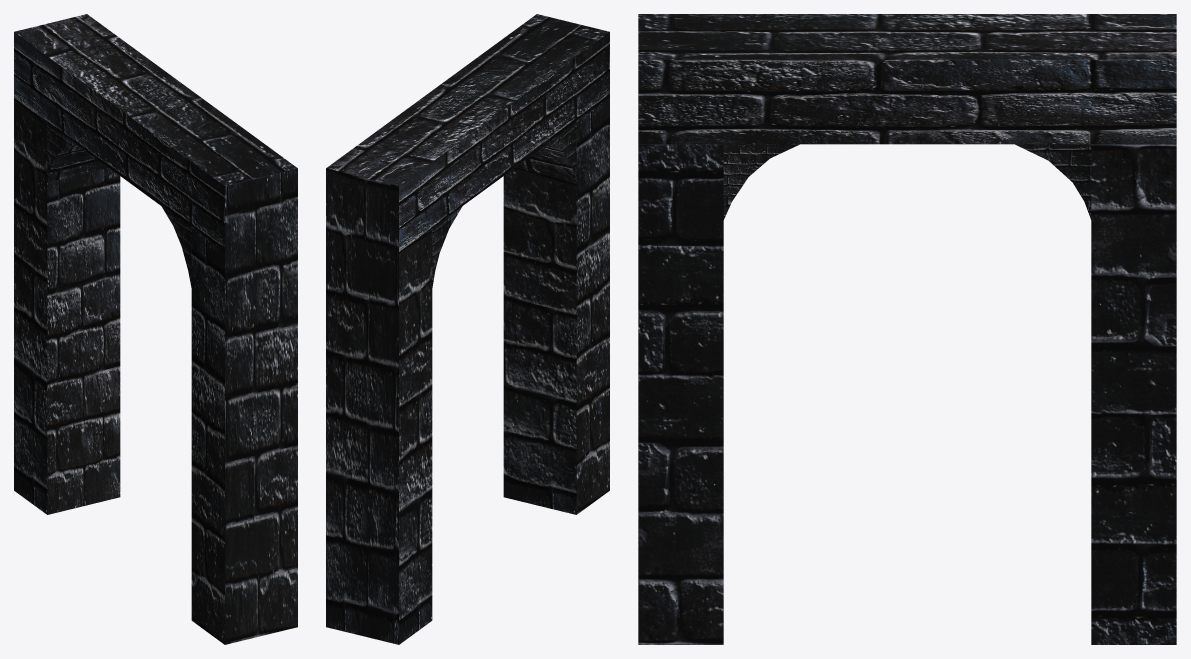
File: archway_2.fbx
3 renders of one model, left to right at view 1: azimuth 30°, elevation 25°; view 2: azimuth 150°, elevation 25°; view 3: azimuth 270°, elevation 25°, orthographic. The views are drawn at different scales.
Visible parts, largest first — view 1: Arch; view 2: Arch; view 3: Arch.
Part boxes in pixels (<box>): Arch: <box>14,14,297,644</box>; Arch: <box>326,14,609,644</box>; Arch: <box>638,14,1176,644</box>.
Size of the model in its own units: 40 by 240 by 200.
Materials: 1 (1 with a texture image).
